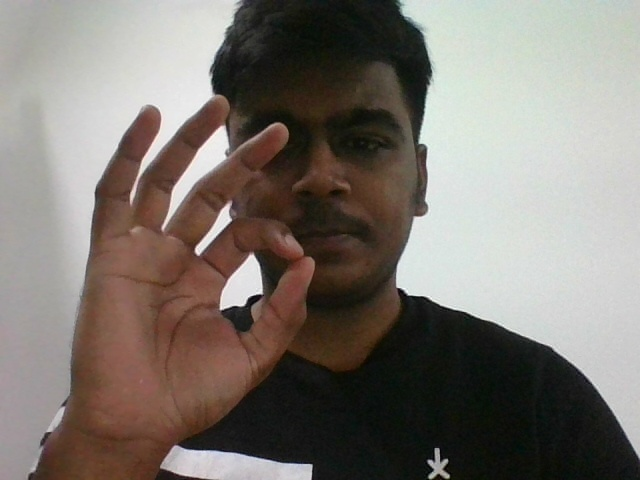ok: (73, 93, 311, 417)
